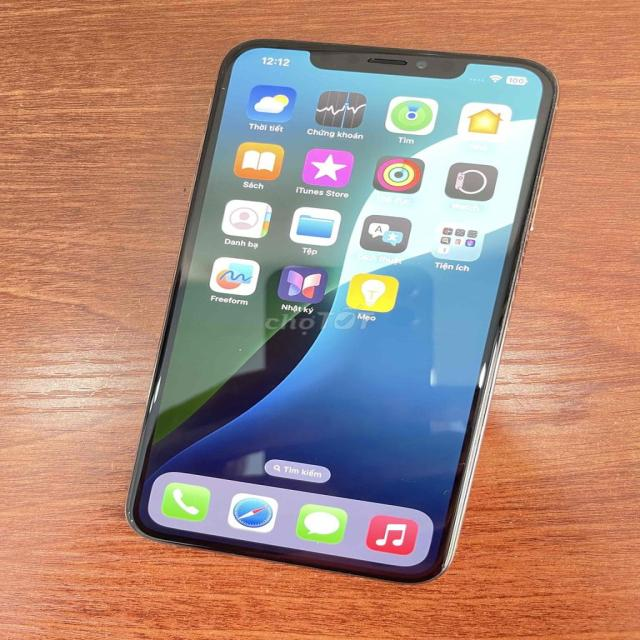scratch: (205, 82, 242, 98)
